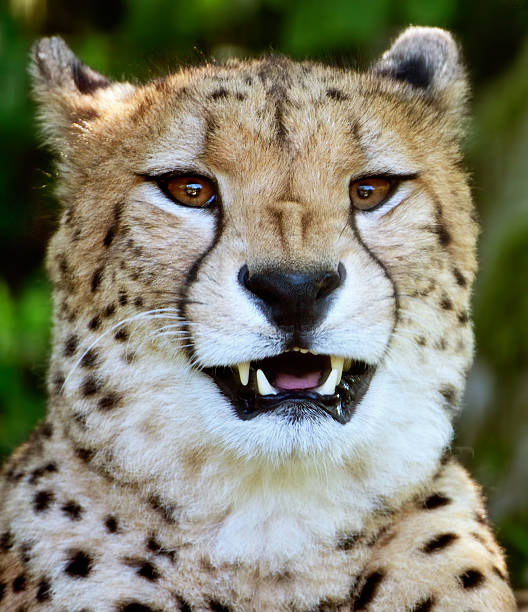cheetah: (13, 10, 502, 578)
